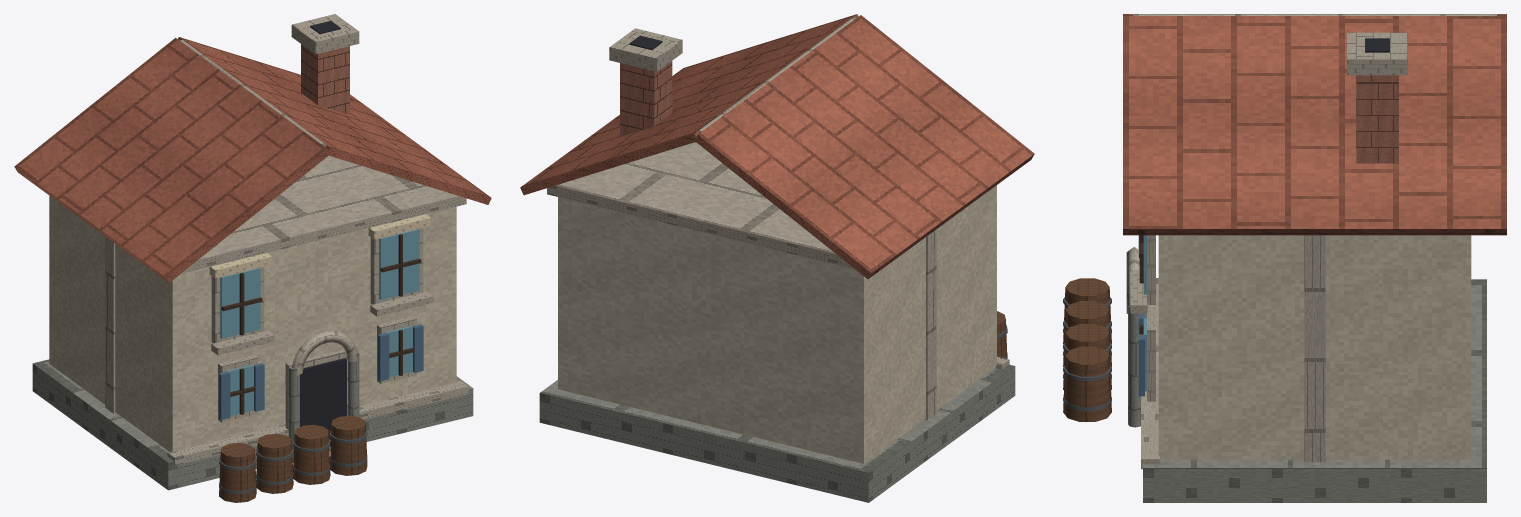
Rendered from procedural_nitrate@4.glb.
3 renders of one model, left to right at view 1: azimuth 30°, elevation 25°; view 2: azimuth 150°, elevation 25°; view 3: azimuth 270°, elevation 25°, orthographic. The views are drawn at different scales.
Visible parts, largest first — view 1: part_8, part_1, part_2, part_0, part_10, part_3, part_7, part_9, part_5, part_4, part_6, part_11; view 2: part_1, part_8, part_2, part_0, part_9; view 3: part_8, part_1, part_0, part_2, part_10, part_9, part_11, part_5.
Part boxes in pixels (x1=…): part_8: x1=14, y1=37, x2=491, y2=282; part_1: x1=49, y1=196, x2=456, y2=451; part_2: x1=105, y1=14, x2=468, y2=465; part_0: x1=32, y1=351, x2=473, y2=490; part_10: x1=219, y1=415, x2=367, y2=502; part_3: x1=220, y1=229, x2=419, y2=415; part_7: x1=300, y1=21, x2=346, y2=446; part_9: x1=301, y1=44, x2=349, y2=114; part_5: x1=219, y1=324, x2=423, y2=419; part_4: x1=221, y1=234, x2=421, y2=414; part_6: x1=209, y1=214, x2=430, y2=278; part_11: x1=219, y1=429, x2=367, y2=494; part_1: x1=558, y1=185, x2=996, y2=463; part_8: x1=520, y1=14, x2=1034, y2=278; part_2: x1=547, y1=17, x2=1009, y2=420; part_0: x1=539, y1=364, x2=1015, y2=502; part_9: x1=620, y1=61, x2=672, y2=136; part_8: x1=1123, y1=14, x2=1506, y2=235; part_1: x1=1158, y1=235, x2=1471, y2=459; part_0: x1=1128, y1=279, x2=1486, y2=502; part_2: x1=1126, y1=14, x2=1496, y2=469; part_10: x1=1063, y1=278, x2=1111, y2=421; part_9: x1=1356, y1=75, x2=1398, y2=163; part_11: x1=1063, y1=297, x2=1111, y2=410; part_5: x1=1138, y1=235, x2=1144, y2=396.
Bounding box in the file's own units: 8.38 × 8.23 × 7.8.
12 materials, 8 textured.
